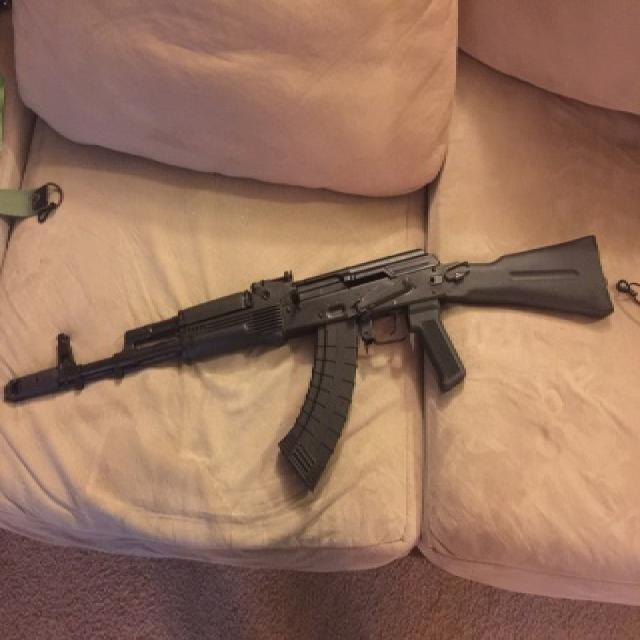rifle: (3, 227, 619, 486)
